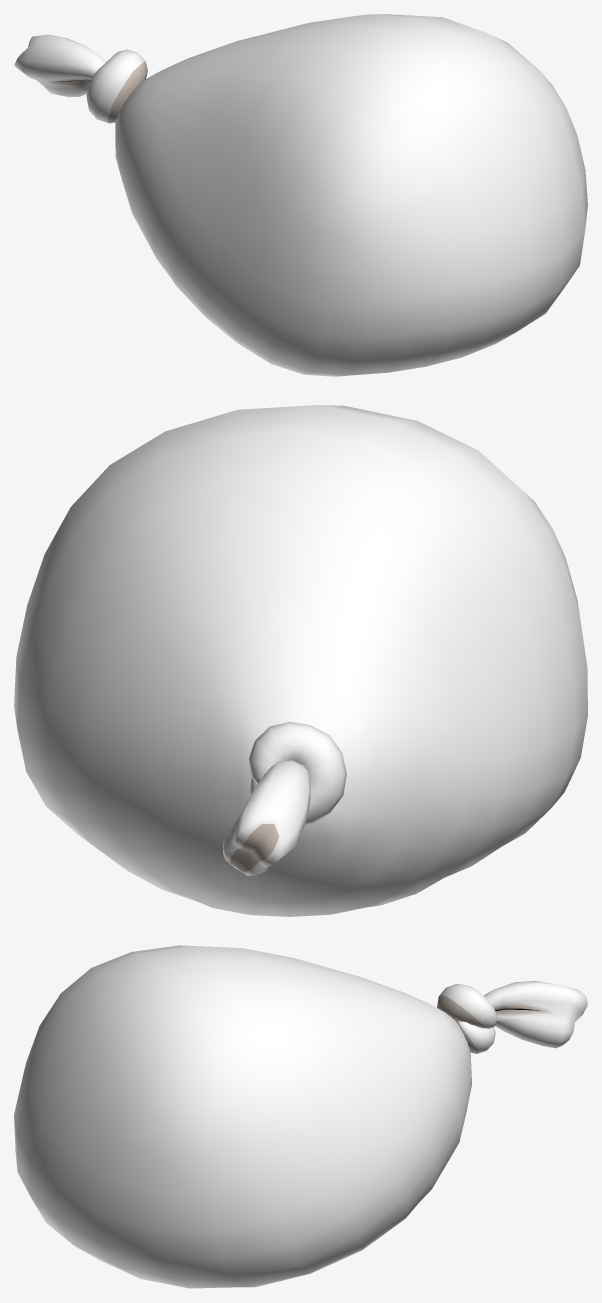
The model's file is saco.obj.
The picture shows the model from 3 angles, top to bottom: view 1: azimuth 30°, elevation 25°; view 2: azimuth 150°, elevation 25°; view 3: azimuth 270°, elevation 25°; orthographic projection. The views are drawn at different scales.
Visible parts, largest first — view 1: Body_jinsters_padoru.004; view 2: Body_jinsters_padoru.004; view 3: Body_jinsters_padoru.004.
Part boxes in pixels (x1,y1,x2,y2): Body_jinsters_padoru.004: (14,14,587,376); Body_jinsters_padoru.004: (14,405,587,916); Body_jinsters_padoru.004: (14,945,587,1288).
Size of the model in its own units: 0.2639 by 0.2015 by 0.3763.
